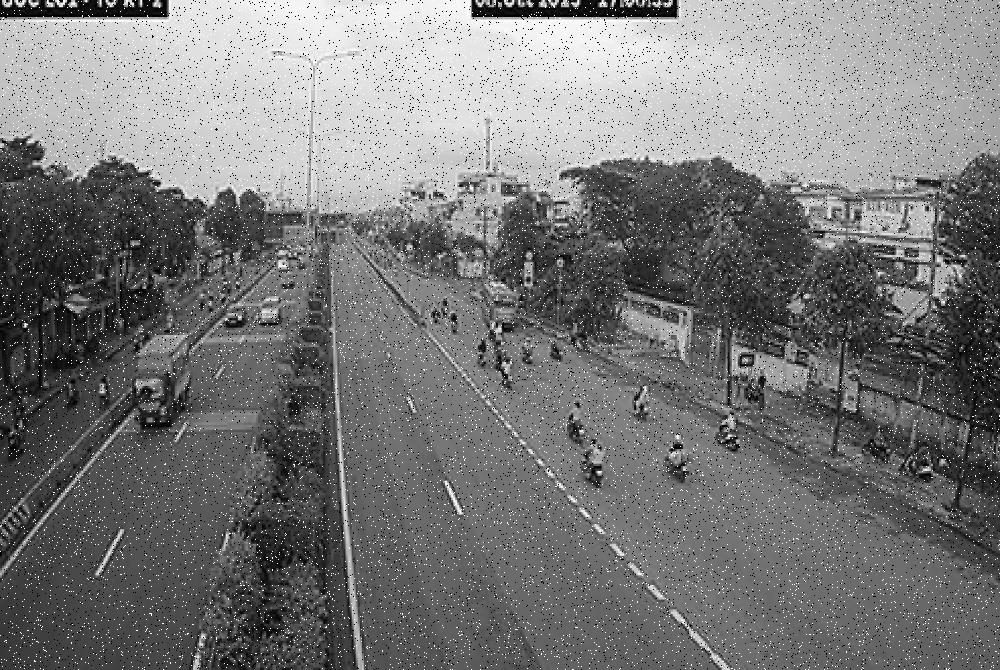bus: (474, 270, 530, 334)
car: (221, 298, 249, 337), (259, 291, 286, 326)
truck: (125, 326, 214, 434)
